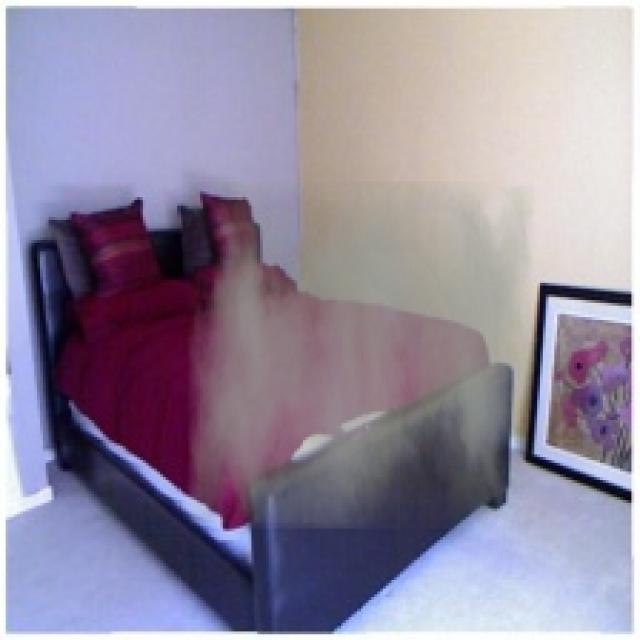smoke: (189, 180, 534, 529)
